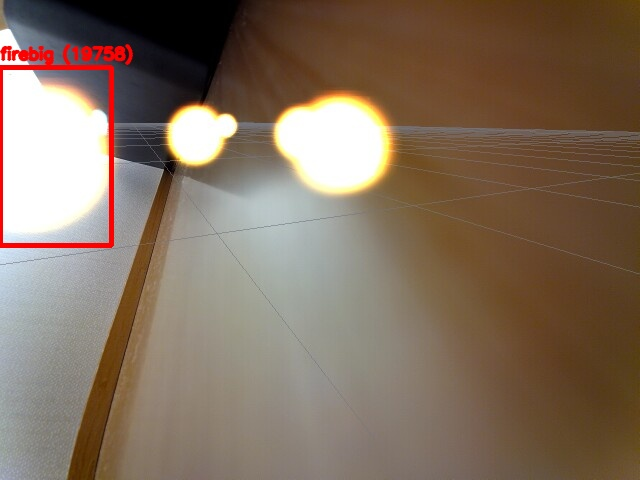firebig: (0, 67, 111, 245)
